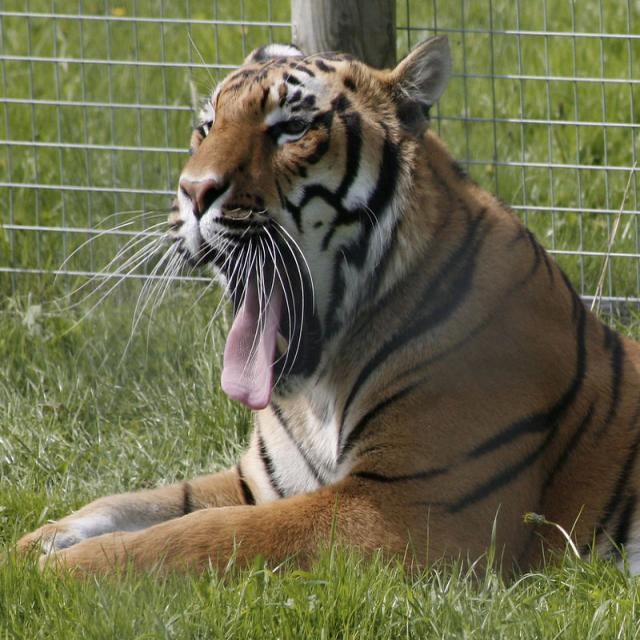Tiger: (11, 31, 638, 588)
